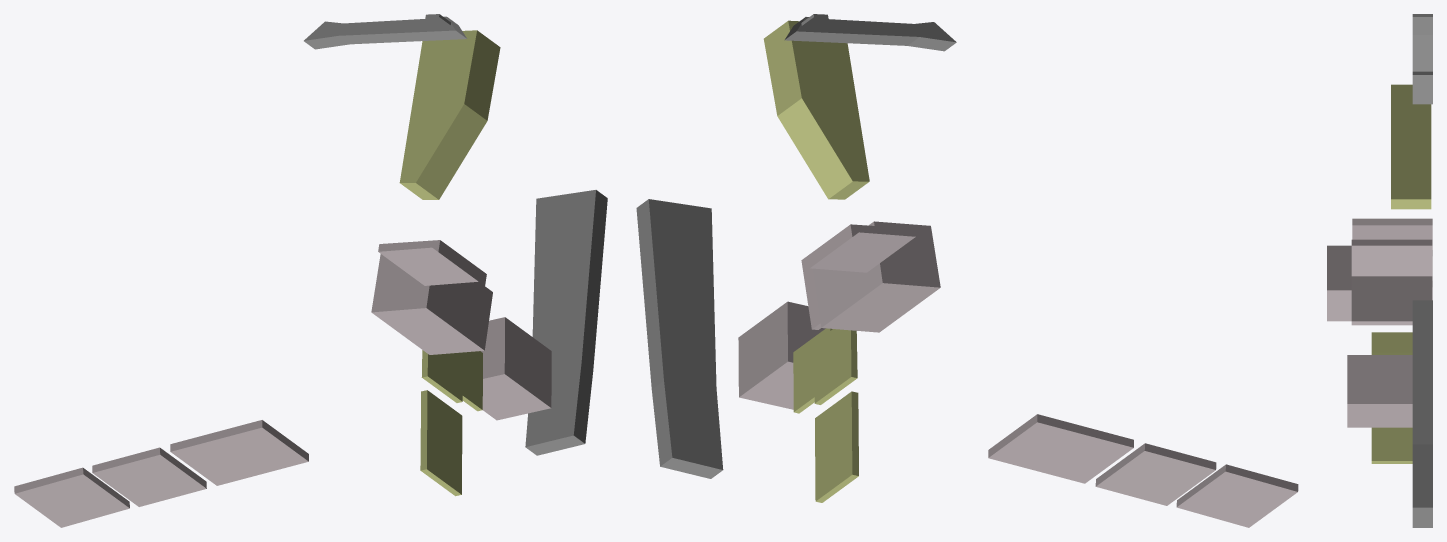
3 renders of one model, left to right at view 1: azimuth 30°, elevation 25°; view 2: azimuth 150°, elevation 25°; view 3: azimuth 270°, elevation 25°, orthographic. The views are drawn at different scales.
Visible parts, largest first — view 1: 0_2_1_0_0_0_0_0; view 2: 0_2_1_0_0_0_0_0; view 3: 0_2_1_0_0_0_0_0.
Part boxes in pixels (<box>): 0_2_1_0_0_0_0_0: <box>14,14,607,527</box>; 0_2_1_0_0_0_0_0: <box>636,14,1298,527</box>; 0_2_1_0_0_0_0_0: <box>1327,14,1432,527</box>.
Bounding box in the file's own units: 86.44 × 67.36 × 15.76.
